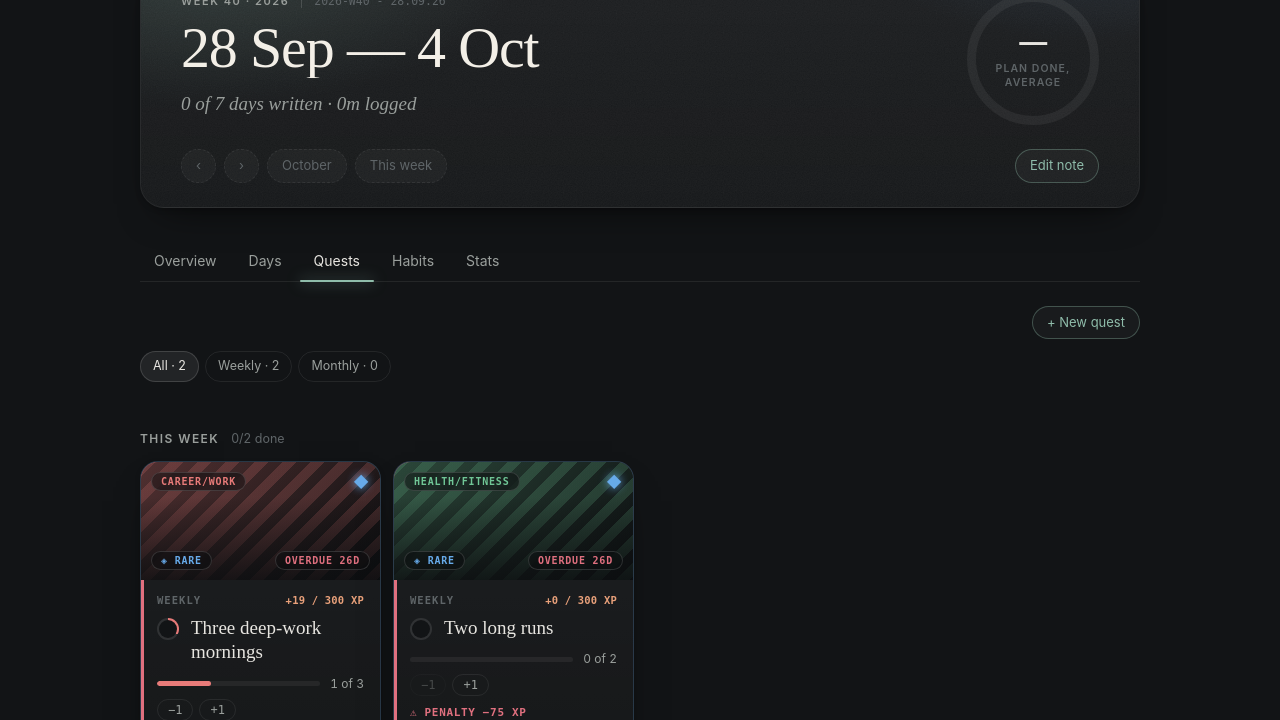
it: the week page writes › sets a deadline from the detail, and shows why a change was refused
Click the tab "Quests" at (337, 260), box [300,240,374,280]
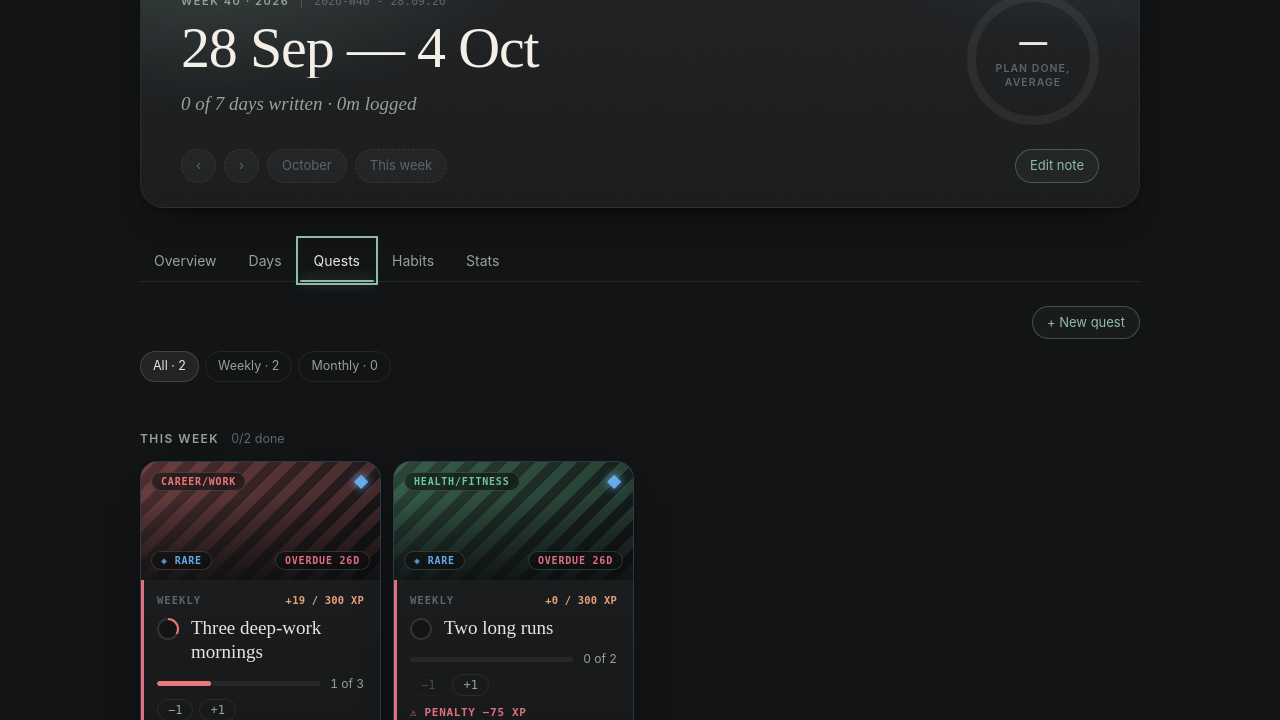
Click the button with aria-label "Details of Two long runs" at (514, 520), box [394,462,633,580]
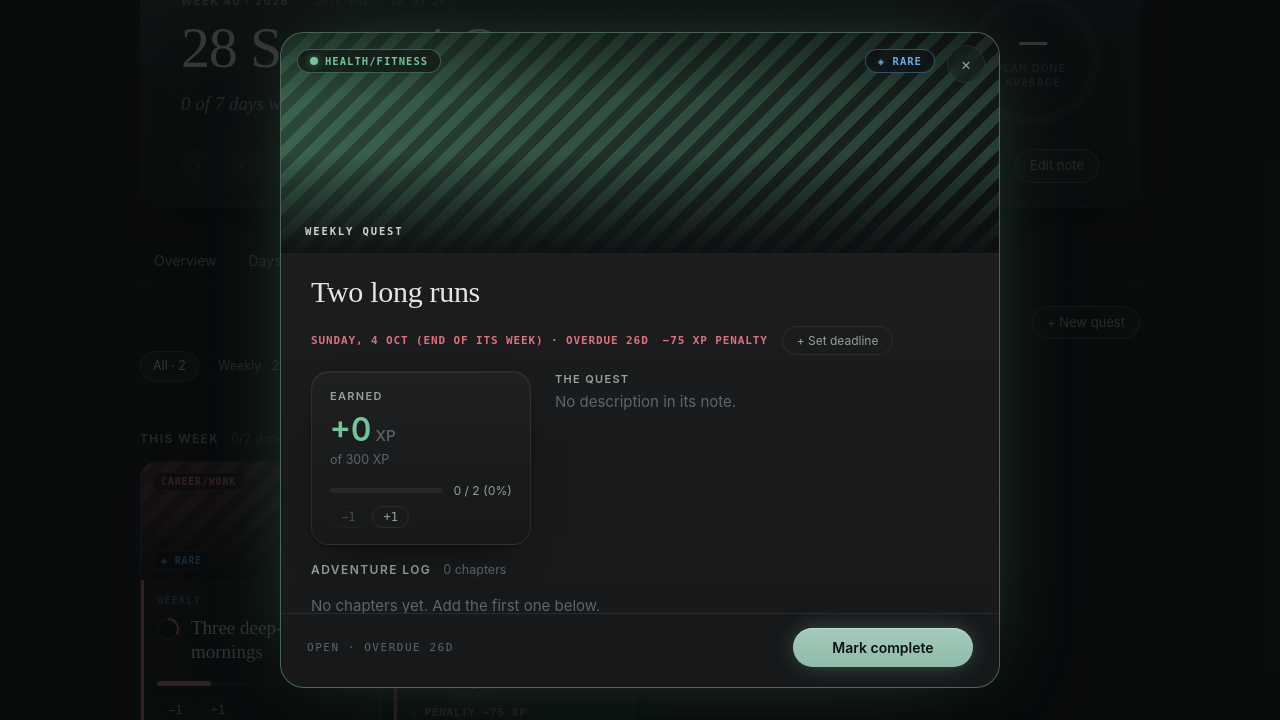
Click the button with test id "quest-deadline-edit" at (838, 340), box [782,326,894,354]
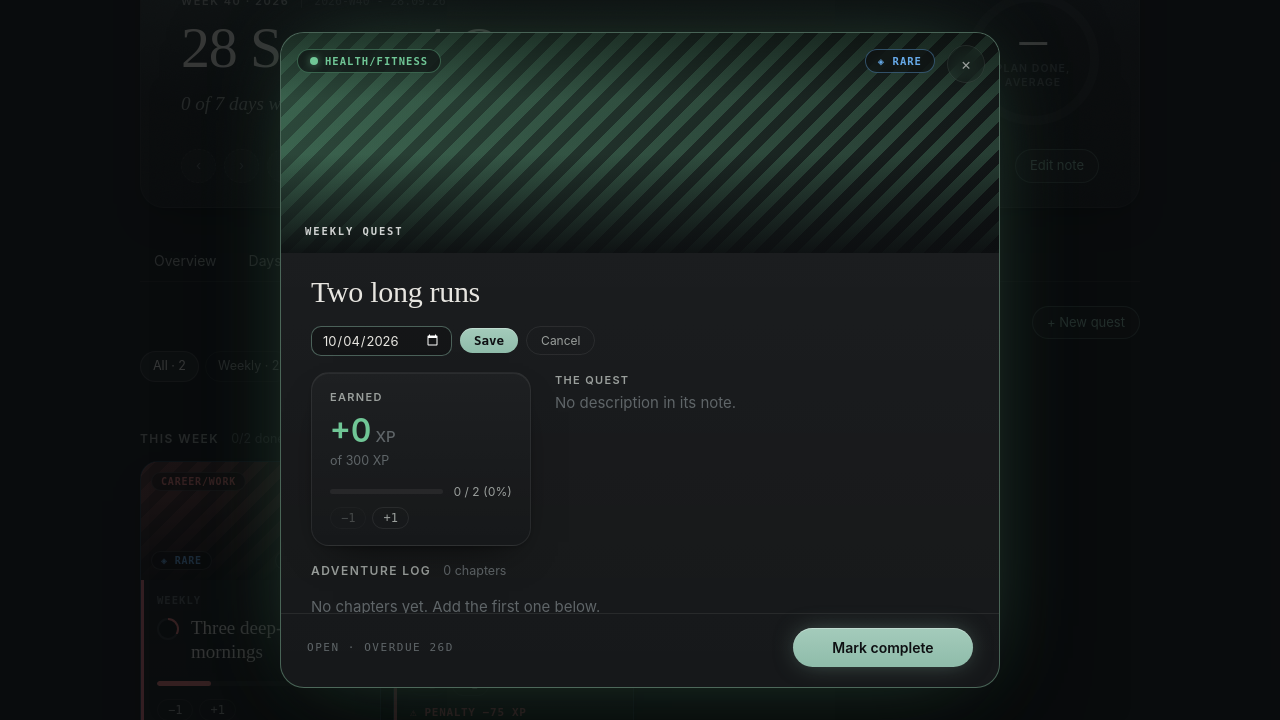
Type "2026-10-02" into the date field with test id "quest-deadline-field" at (382, 340), box [311,326,452,356]
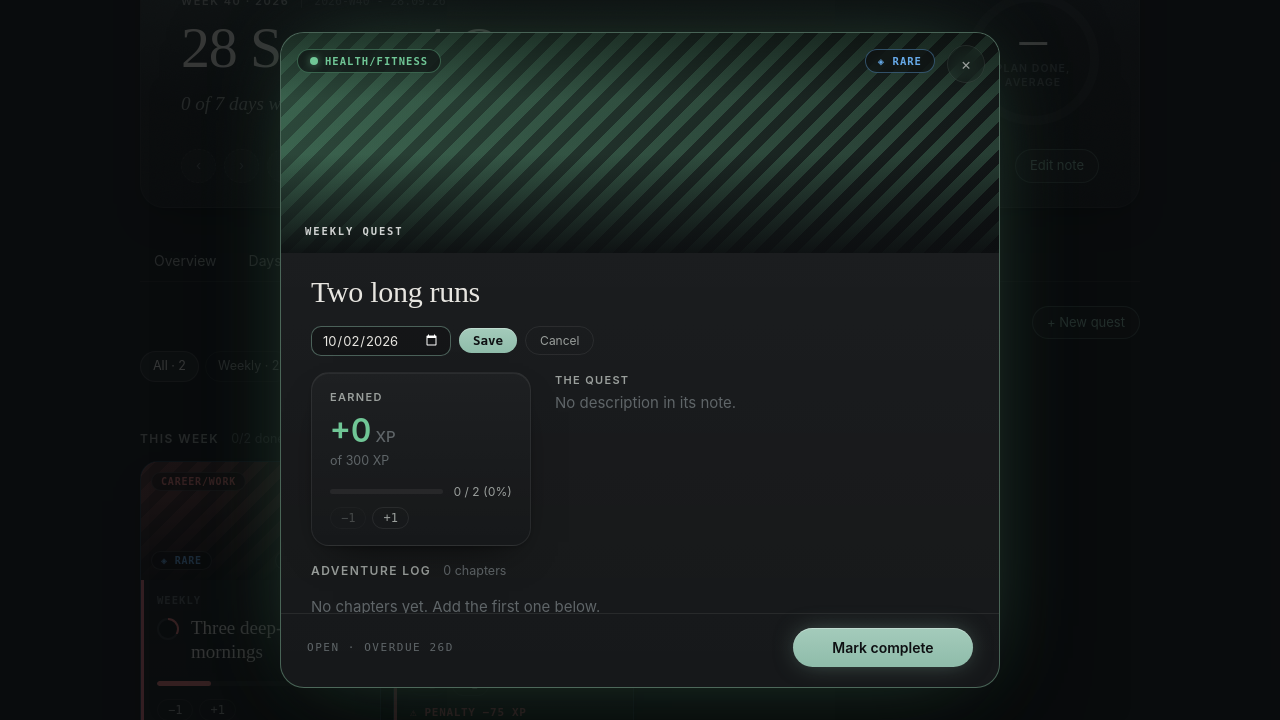
Click the button with test id "quest-deadline-save" at (488, 340), box [459,328,517,353]
(page scrolled)
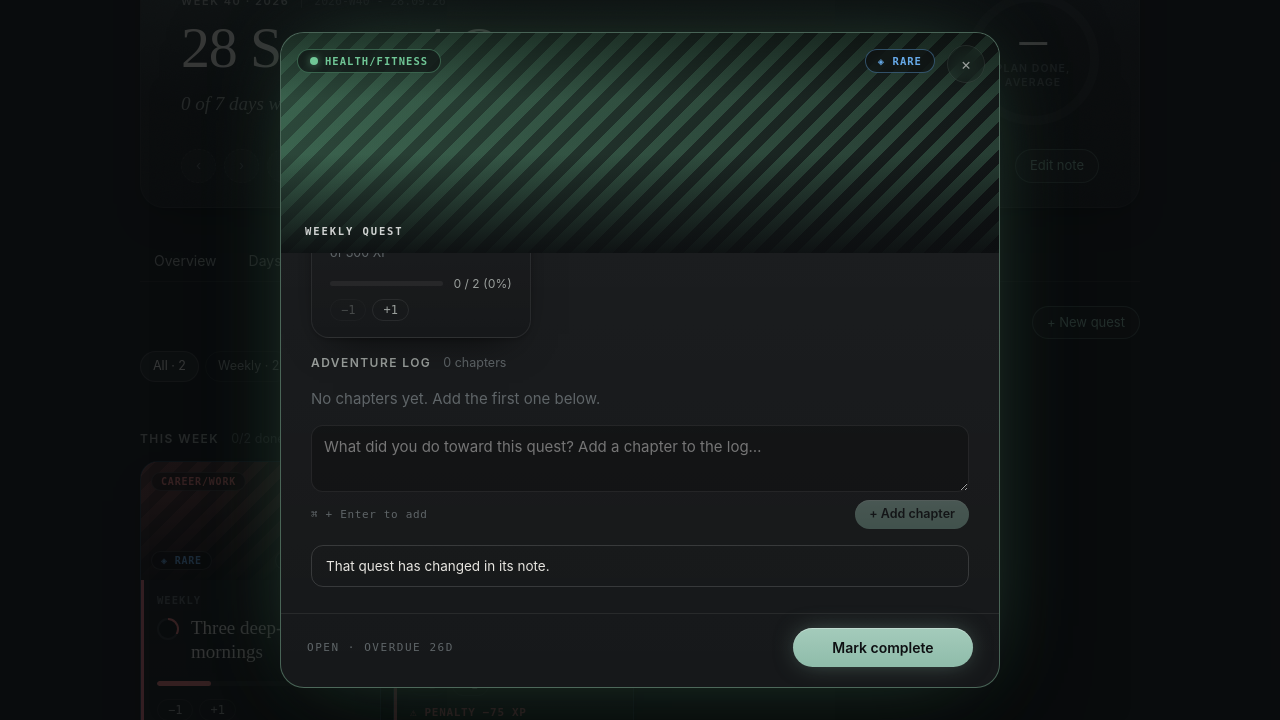
Result: the message with test id "quest-detail-problem" reads "That quest has changed in its note." at [326,558,550,574]
